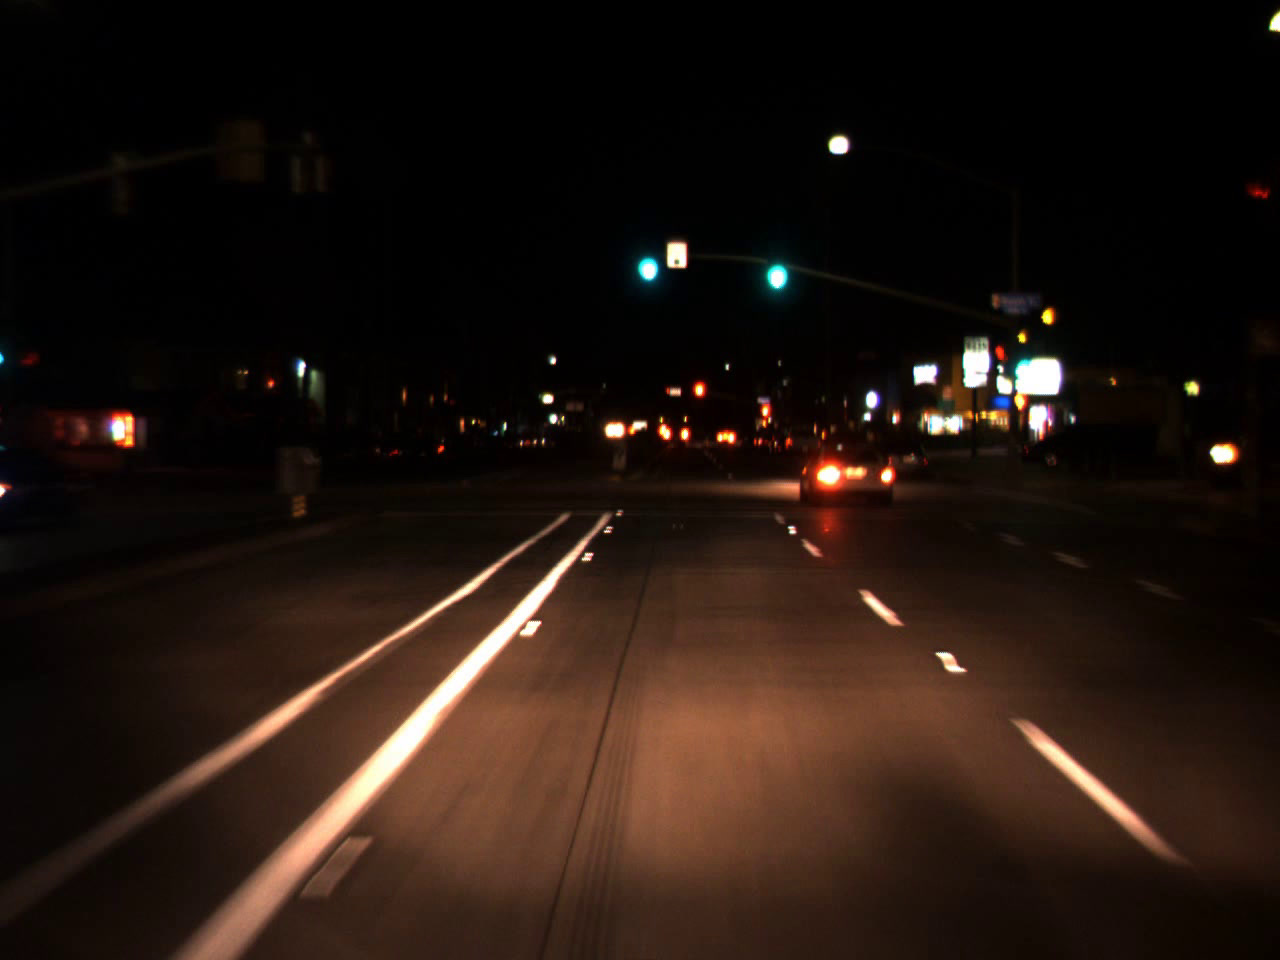go: (758, 233, 792, 299), (630, 230, 662, 287), (1010, 343, 1035, 385)
stop: (691, 379, 707, 414), (758, 401, 773, 428)
